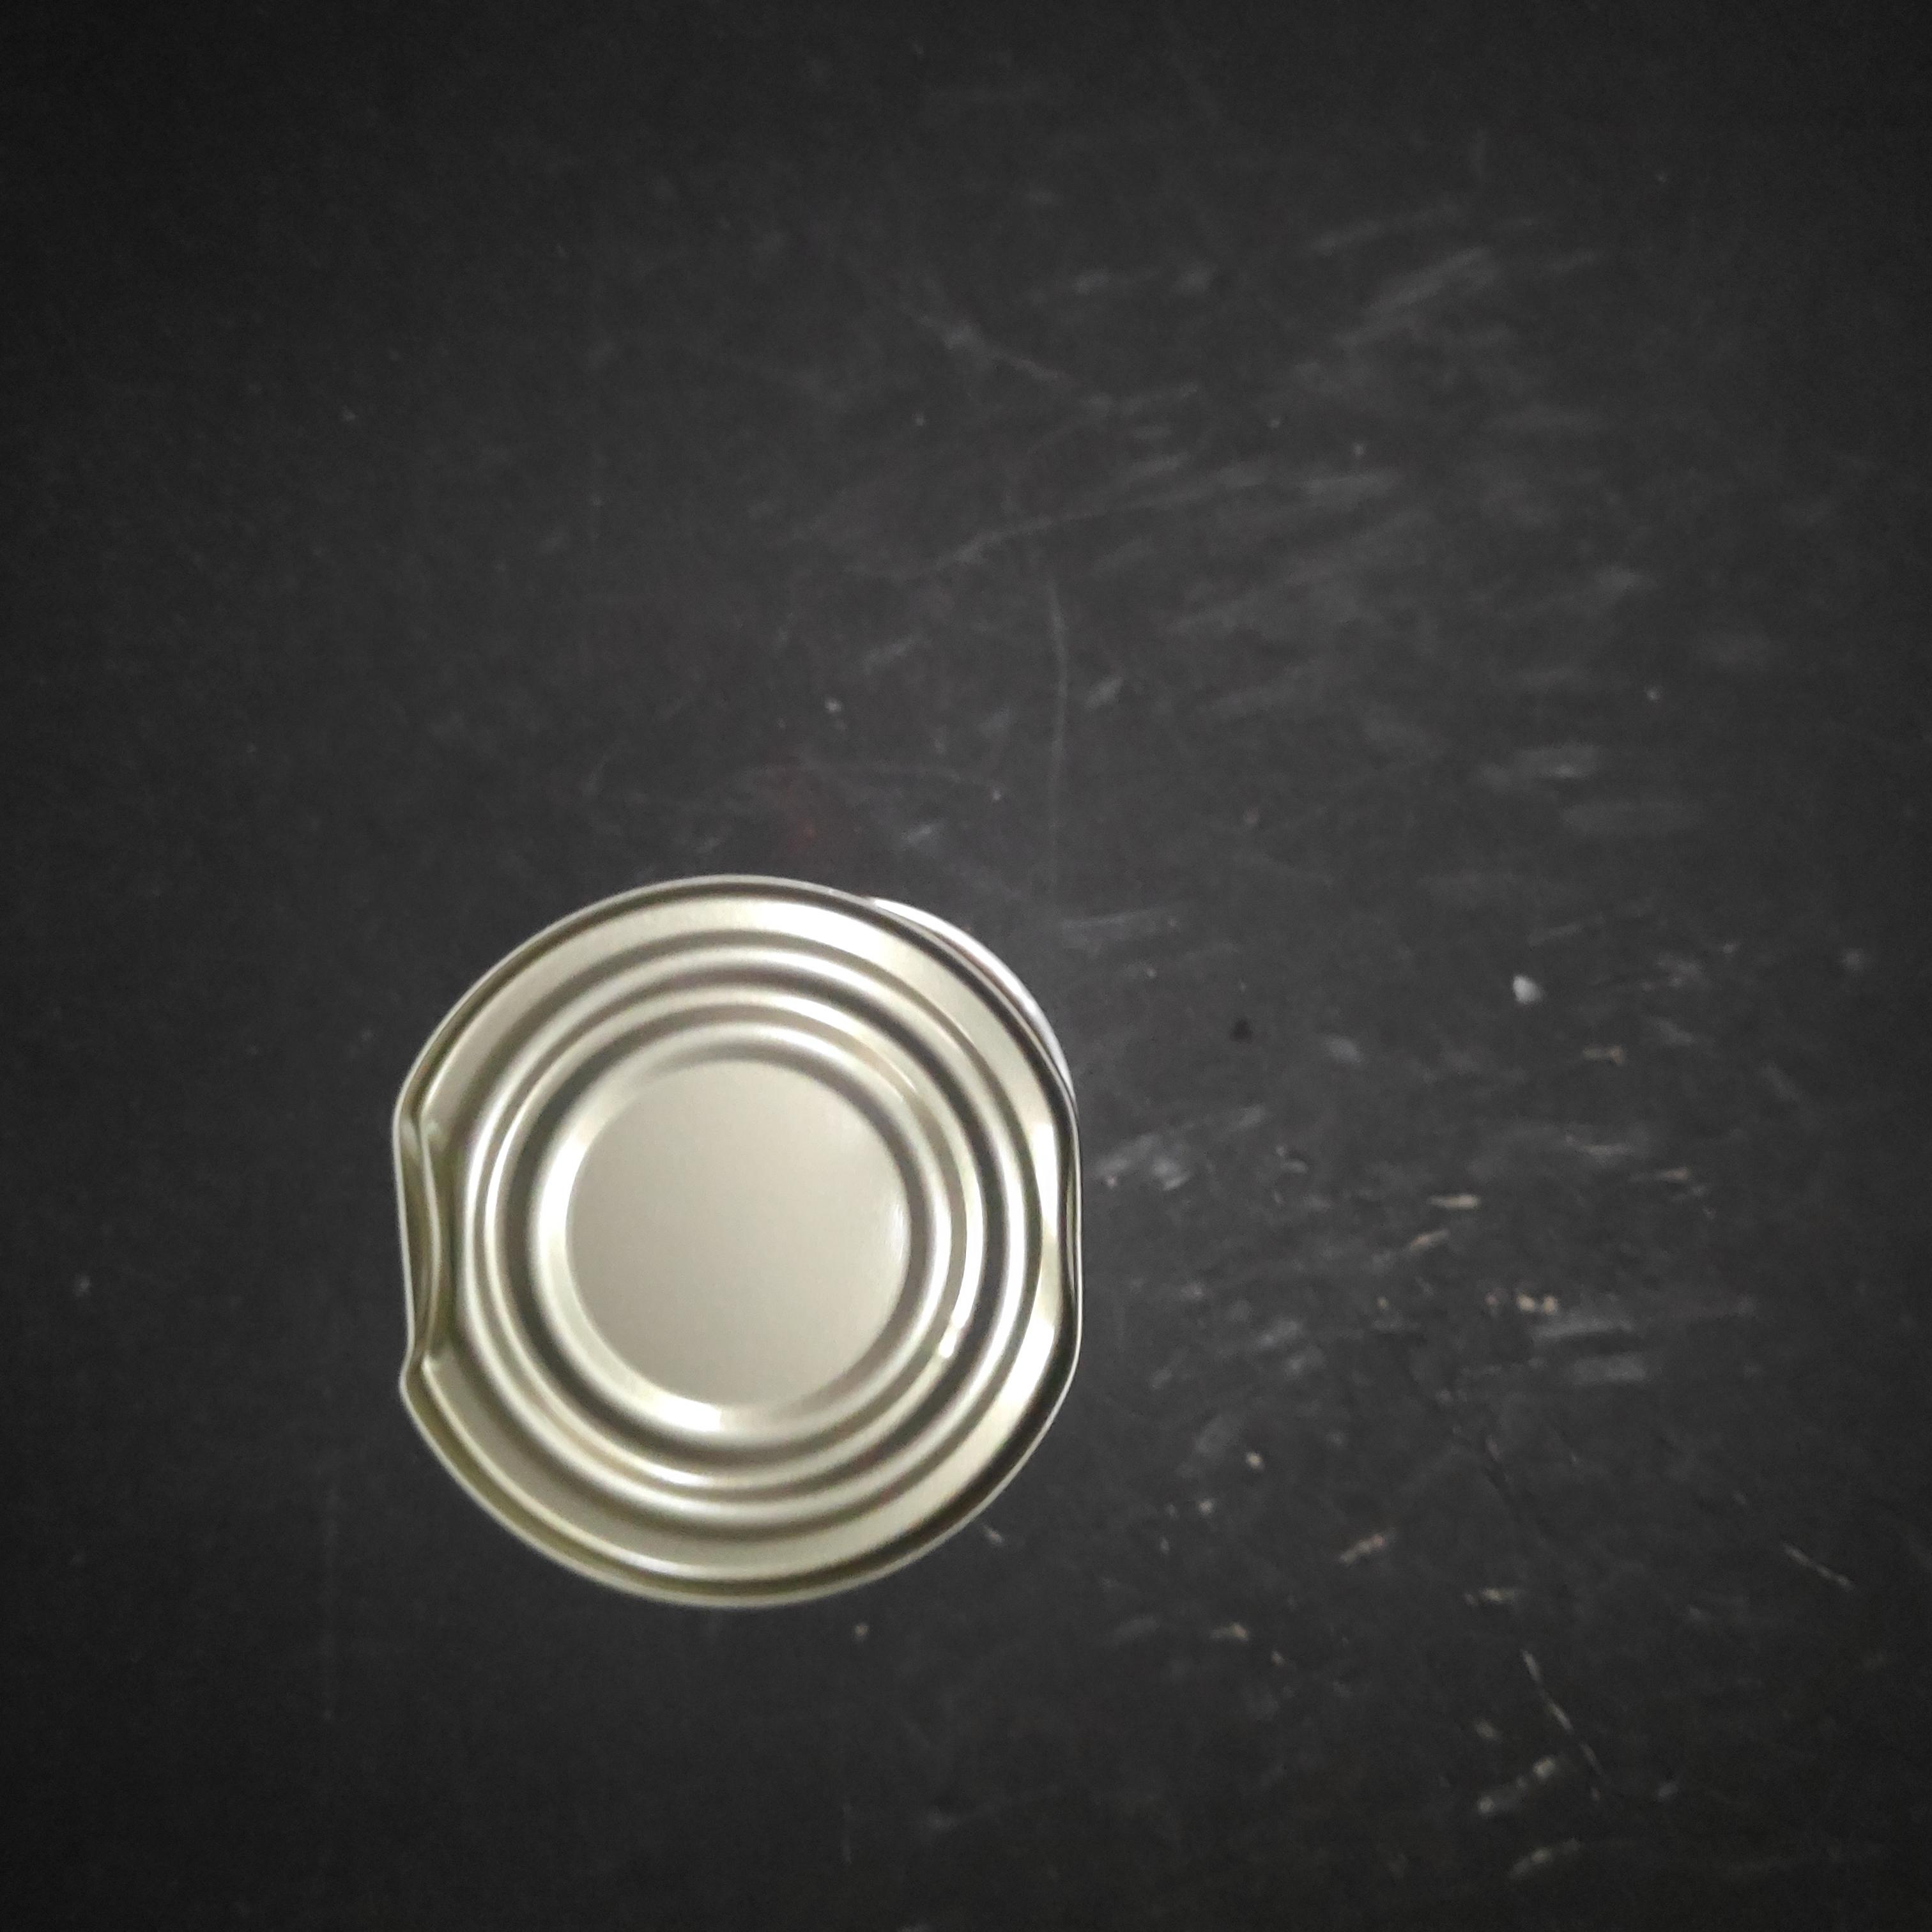Minor Defect: (832, 308, 1559, 1076)
